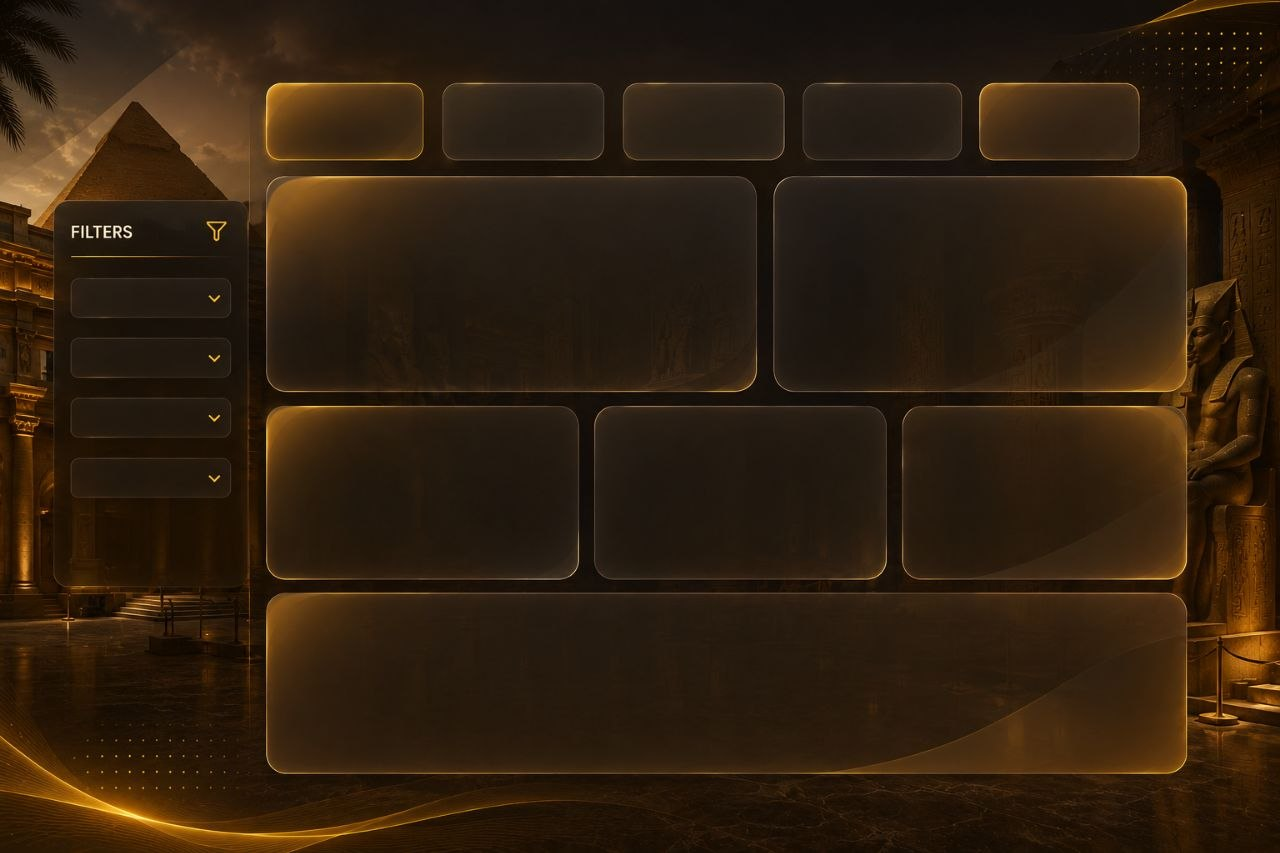

Layout of this report page (visuals, bound fields, positions):
{"tool":"powerbi","page":{"name":"Overview","canvas":[1920,1080],"ordinal":0},"visuals":[{"type":"cardVisual","fields":{"Data":["CountNonNull(DimVisitor.VisitorKey)"]},"box":[320.5,23.9,262,133],"z":0},{"type":"cardVisual","fields":{"Data":["Sum(FactSales.Profit)"]},"box":[1472.4,23.9,262,133],"z":1000},{"type":"cardVisual","fields":{"Data":["Sum(FactSales.TotalCost)"]},"box":[1190.4,23.9,262,133],"z":2000},{"type":"cardVisual","fields":{"Data":["Sum(FactSales.NetSales)"]},"box":[900.4,23.9,262,133],"z":3000},{"type":"cardVisual","fields":{"Data":["Sum(FactSales.UnitPrice)"]},"box":[602.5,23.9,262,133],"z":4000},{"type":"slicer","fields":{"Values":["DimVisitor.Country"]},"box":[57.4,403.7,216.2,68],"z":5000},{"type":"slicer","fields":{"Values":["DimVisitor.Gender"]},"box":[57.4,492.9,216.2,68],"z":6000},{"type":"slicer","fields":{"Values":["DimTicket.Category"]},"box":[57.4,579,216.2,68],"z":7000},{"type":"slicer","fields":{"Values":["DimDate.Date.Variation.Date Hierarchy.Year"]},"box":[57.4,668.2,216.2,68],"z":8000},{"type":"columnChart","fields":{"Category":["DimDate.Date.Variation.Date Hierarchy.Year","DimDate.Date.Variation.Date Hierarchy.Quarter","DimDate.Date.Variation.Date Hierarchy.Month","DimDate.Date.Variation.Date Hierarchy.Day"],"Y":["Sum(FactSales.Profit)"]},"box":[1162.6,179.9,621.4,312.9],"z":9000},{"type":"columnChart","fields":{"Category":["DimDate.Date.Variation.Date Hierarchy.Year","DimDate.Date.Variation.Date Hierarchy.Quarter","DimDate.Date.Variation.Date Hierarchy.Month","DimDate.Date.Variation.Date Hierarchy.Day"],"Y":["Sum(FactSales.GrossSales)"]},"box":[409.7,179.9,621.4,312.9],"z":10000},{"type":"donutChart","fields":{"Category":["DimTicket.Category"],"Y":["Sum(FactSales.Profit)"]},"box":[320.5,506.5,489.8,285.7],"z":11000},{"type":"donutChart","fields":{"Category":["DimVisitor.VisitorSegment"],"Y":["Sum(FactSales.Profit)"]},"box":[820.9,506.5,489.8,285.7],"z":12000},{"type":"donutChart","fields":{"Category":["DimVisitor.VisitorSegment"],"Y":["Sum(FactSales.NetSales)"]},"box":[1321.3,506.5,489.8,285.7],"z":13000},{"type":"lineChart","fields":{"Category":["DimDate.Date.Variation.Date Hierarchy.Month"],"Y":["Sum(FactSales.Profit)"]},"box":[320.5,792.2,1477,266.1],"z":14000},{"type":"shape","box":[1829.3,3,78.6,42.3],"z":14001},{"type":"image","box":[57.4,848.1,216.2,170.8],"z":14002},{"type":"image","box":[18.1,6,228.3,167.8],"z":14003},{"type":"image","box":[1771.8,65,136.1,102.8],"z":14004},{"type":"image","box":[39.3,173.9,83.1,89.2],"z":14005},{"type":"image","box":[161.8,176.9,84.7,83.1],"z":14006},{"type":"image","box":[1189.8,78.6,80.1,51.4],"z":14007},{"type":"image","box":[1474,69.5,59,68],"z":14008},{"type":"image","box":[901,65,59,80.1],"z":14009},{"type":"image","box":[595.7,78.6,125.5,66.5],"z":14010},{"type":"image","box":[320.5,78.6,107.3,60.5],"z":14011}]}

Visuals, with their boxes on the page's 1920x1080 design canvas (x1, y1, x2, y2). These are canvas units, not pixel positions in the 1280x853 screenshot, which may show the page scaled, cropped or inside an application window:
cardVisual - CountNonNull(DimVisitor.VisitorKey): 320, 24, 582, 157
cardVisual - Sum(FactSales.Profit): 1472, 24, 1734, 157
cardVisual - Sum(FactSales.TotalCost): 1190, 24, 1452, 157
cardVisual - Sum(FactSales.NetSales): 900, 24, 1162, 157
cardVisual - Sum(FactSales.UnitPrice): 602, 24, 864, 157
slicer - DimVisitor.Country: 57, 404, 274, 472
slicer - DimVisitor.Gender: 57, 493, 274, 561
slicer - DimTicket.Category: 57, 579, 274, 647
slicer - DimDate.Date.Variation.Date Hierarchy.Year: 57, 668, 274, 736
columnChart - DimDate.Date.Variation.Date Hierarchy.Year x DimDate.Date.Variation.Date Hierarchy.Quarter: 1163, 180, 1784, 493
columnChart - DimDate.Date.Variation.Date Hierarchy.Year x DimDate.Date.Variation.Date Hierarchy.Quarter: 410, 180, 1031, 493
donutChart - DimTicket.Category x Sum(FactSales.Profit): 320, 506, 810, 792
donutChart - DimVisitor.VisitorSegment x Sum(FactSales.Profit): 821, 506, 1311, 792
donutChart - DimVisitor.VisitorSegment x Sum(FactSales.NetSales): 1321, 506, 1811, 792
lineChart - DimDate.Date.Variation.Date Hierarchy.Month x Sum(FactSales.Profit): 320, 792, 1798, 1058
shape: 1829, 3, 1908, 45
image: 57, 848, 274, 1019
image: 18, 6, 246, 174
image: 1772, 65, 1908, 168
image: 39, 174, 122, 263
image: 162, 177, 246, 260
image: 1190, 79, 1270, 130
image: 1474, 70, 1533, 138
image: 901, 65, 960, 145
image: 596, 79, 721, 145
image: 320, 79, 428, 139
